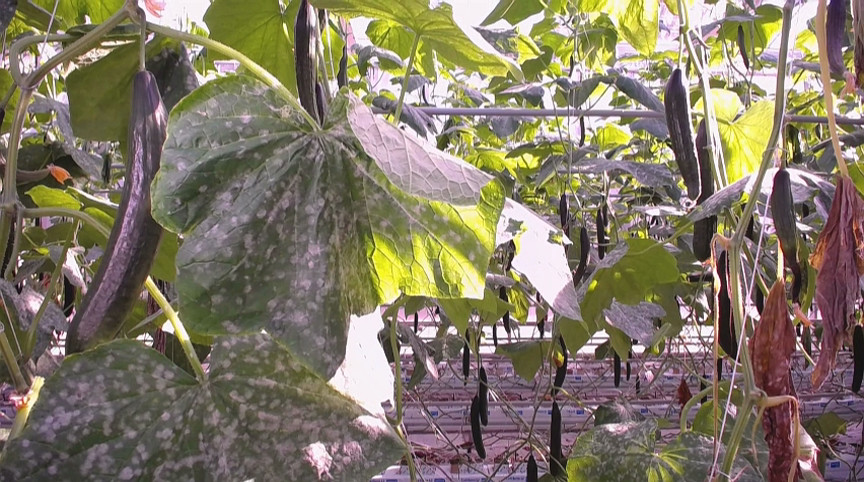cucumber: (64, 69, 169, 355), (664, 68, 702, 201), (775, 171, 803, 303), (692, 121, 714, 262), (295, 1, 320, 123), (573, 227, 591, 287), (471, 397, 486, 461), (549, 403, 561, 478), (478, 367, 489, 427), (596, 209, 606, 259)
